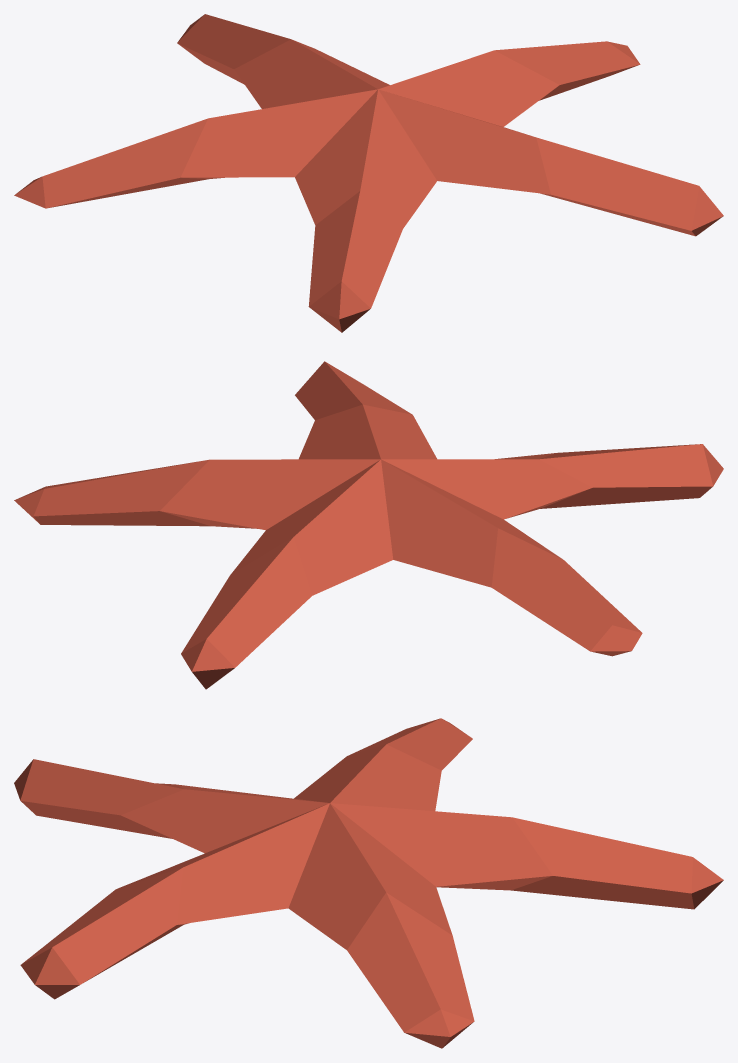
File: Starfish.fbx
3 views of the same model, one above another, from view 1: azimuth 30°, elevation 25°; view 2: azimuth 150°, elevation 25°; view 3: azimuth 270°, elevation 25° (orthographic). The views are drawn at different scales.
Parts seen in each view (by area): view 1: Starfish; view 2: Starfish; view 3: Starfish.
Part boxes in pixels (box(x1,y1,x2,y2)): Starfish: box(14, 14, 723, 332); Starfish: box(14, 361, 723, 689); Starfish: box(14, 718, 723, 1048).
Bounding box in the file's own units: 1.32 × 0.2094 × 1.27.
